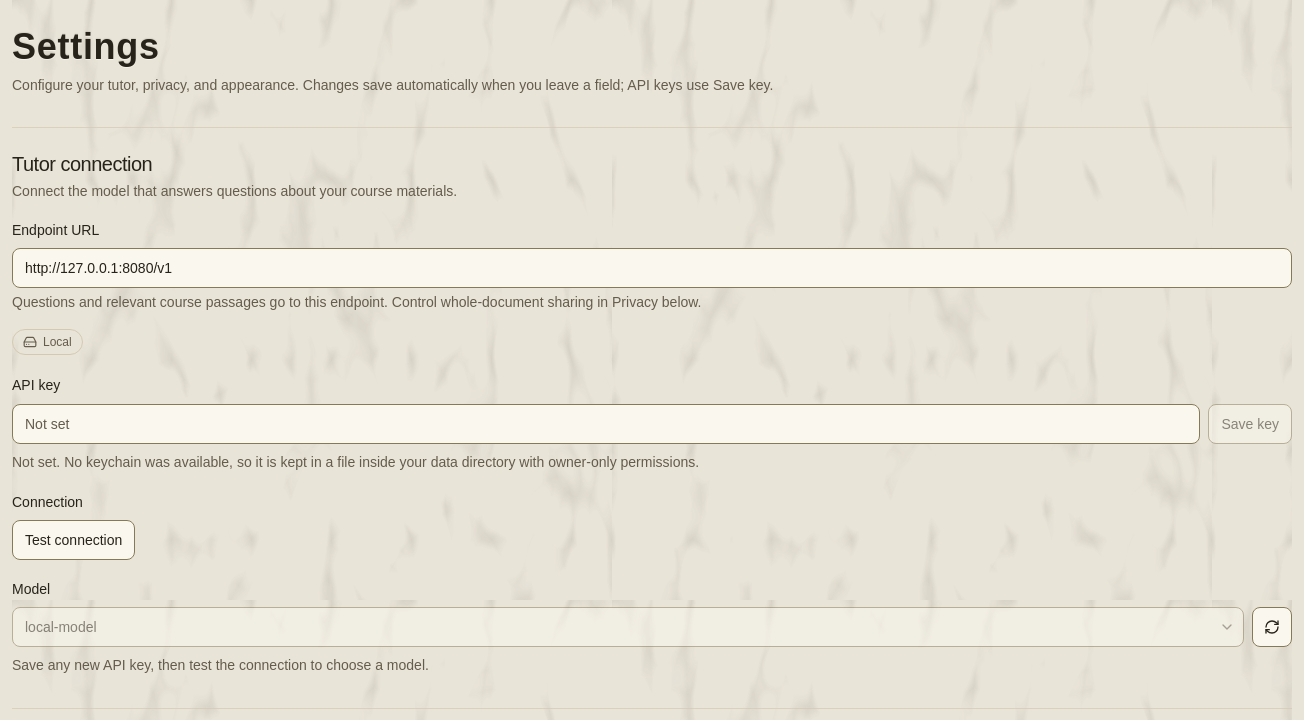
Test: invalidates a tested endpoint and its models as soon as the address changes
Click the button "Test connection" at (74, 540), box 12,520 -> 135,560
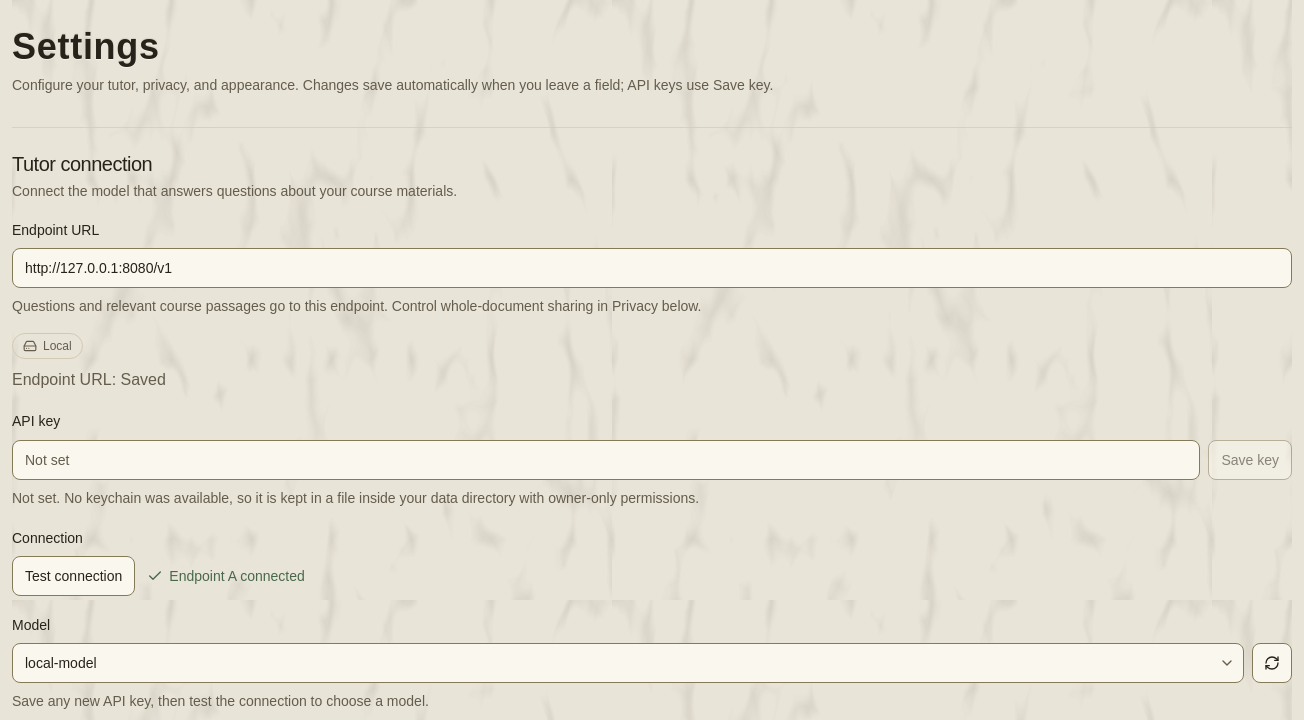
Result: the text "Endpoint A connected" is shown at 147,566 -> 305,586
Type "/new" into the field labelled "Endpoint URL" at (652, 268), box 12,248 -> 1292,288
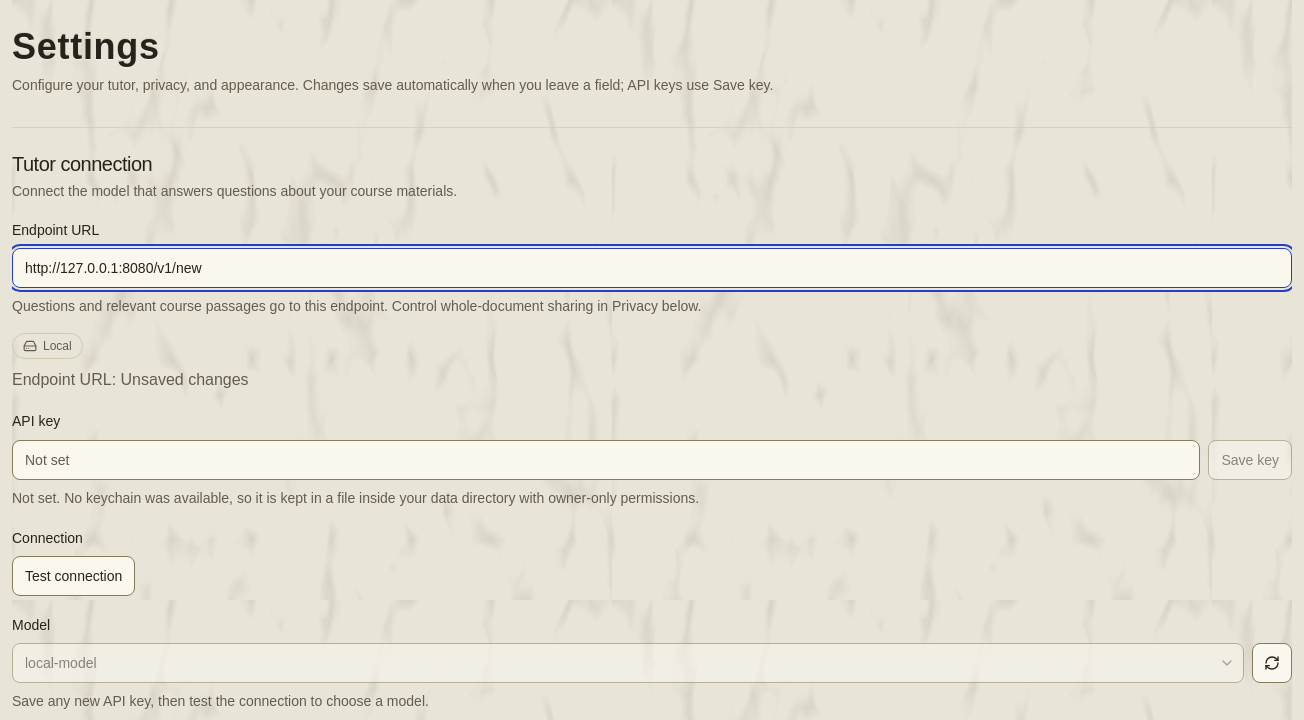
Result: the text "Endpoint A connected" is gone
Result: the dropdown labelled "model" is disabled at 12,643 -> 1244,683
